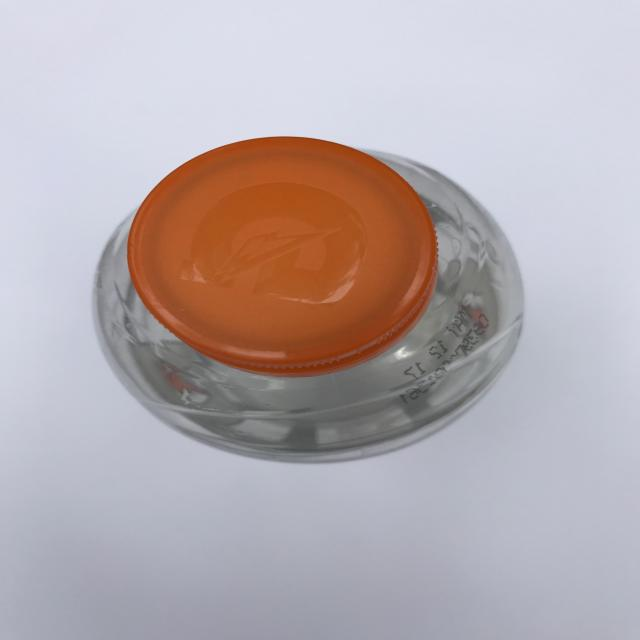plastic: (92, 136, 526, 463)
